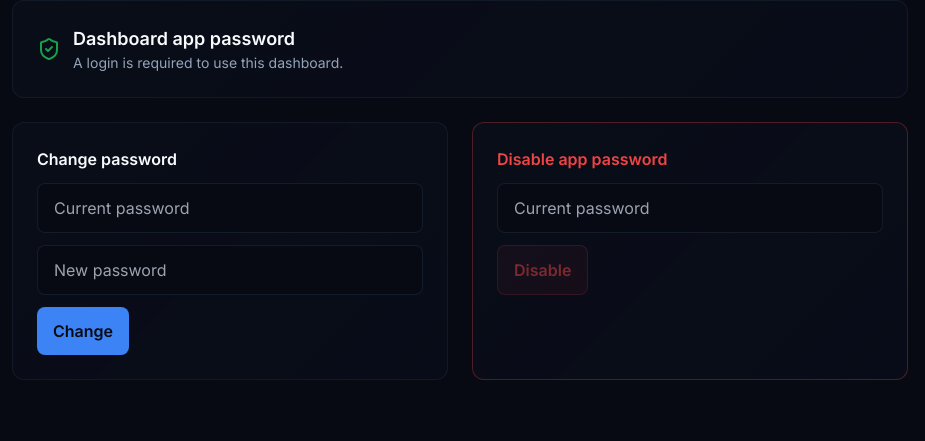
shows why the server refused the change
Type "old" into the password field with placeholder "Current password" below "Change password".
click(230, 208); type("old")  # box [37,183,423,233]
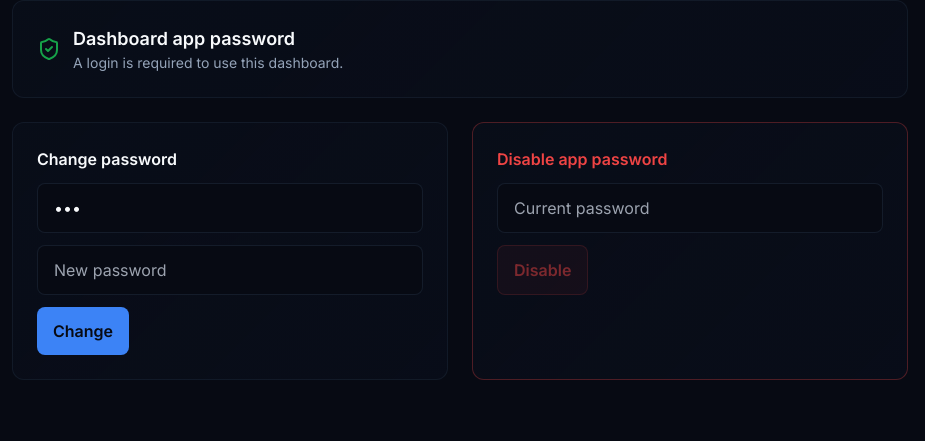
Type "new" into the password field with placeholder "New password".
click(230, 270); type("new")  # box [37,245,423,295]
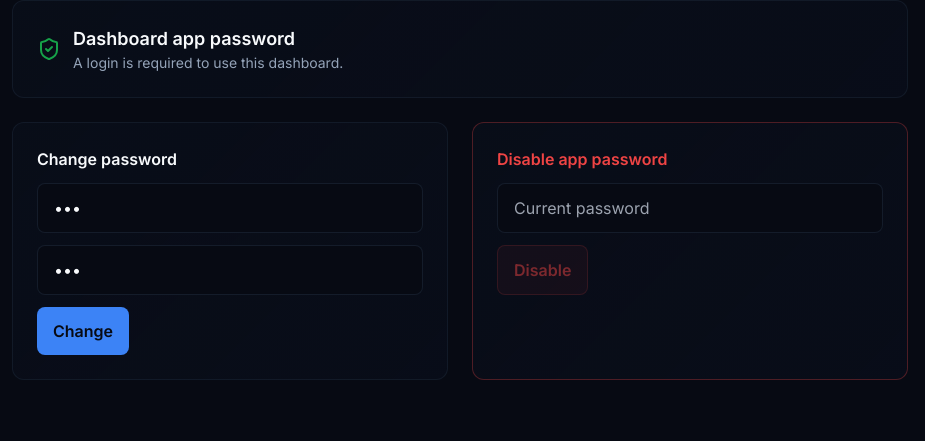
Click the button "Change".
click(83, 331)  # box [37,307,129,355]
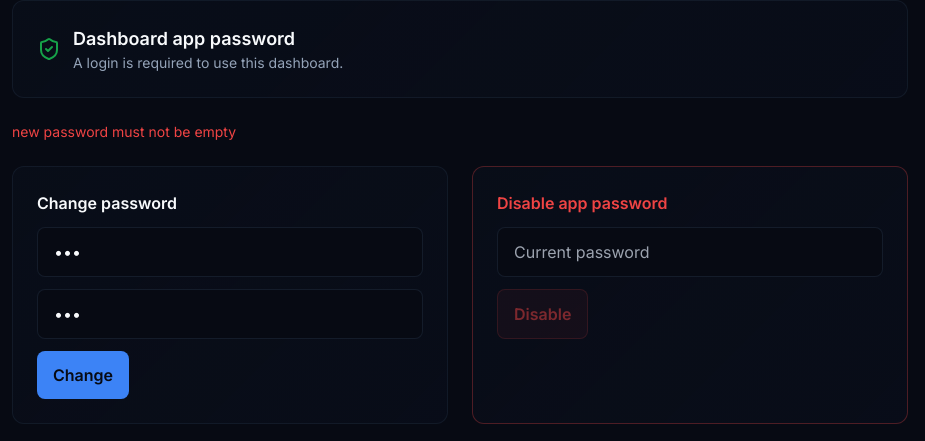
Result: the text "new password must not be empty" is shown at [12,123,236,140]
